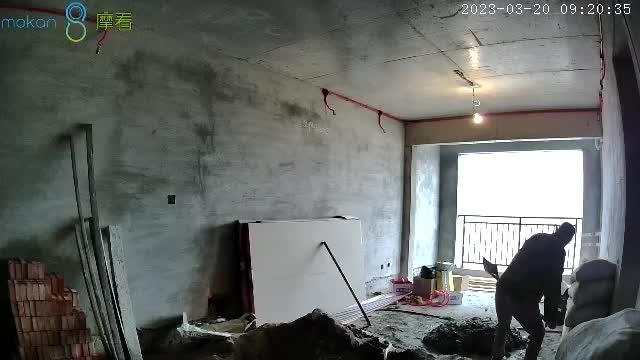people: (495, 221, 576, 360)
window: (456, 151, 580, 275)
